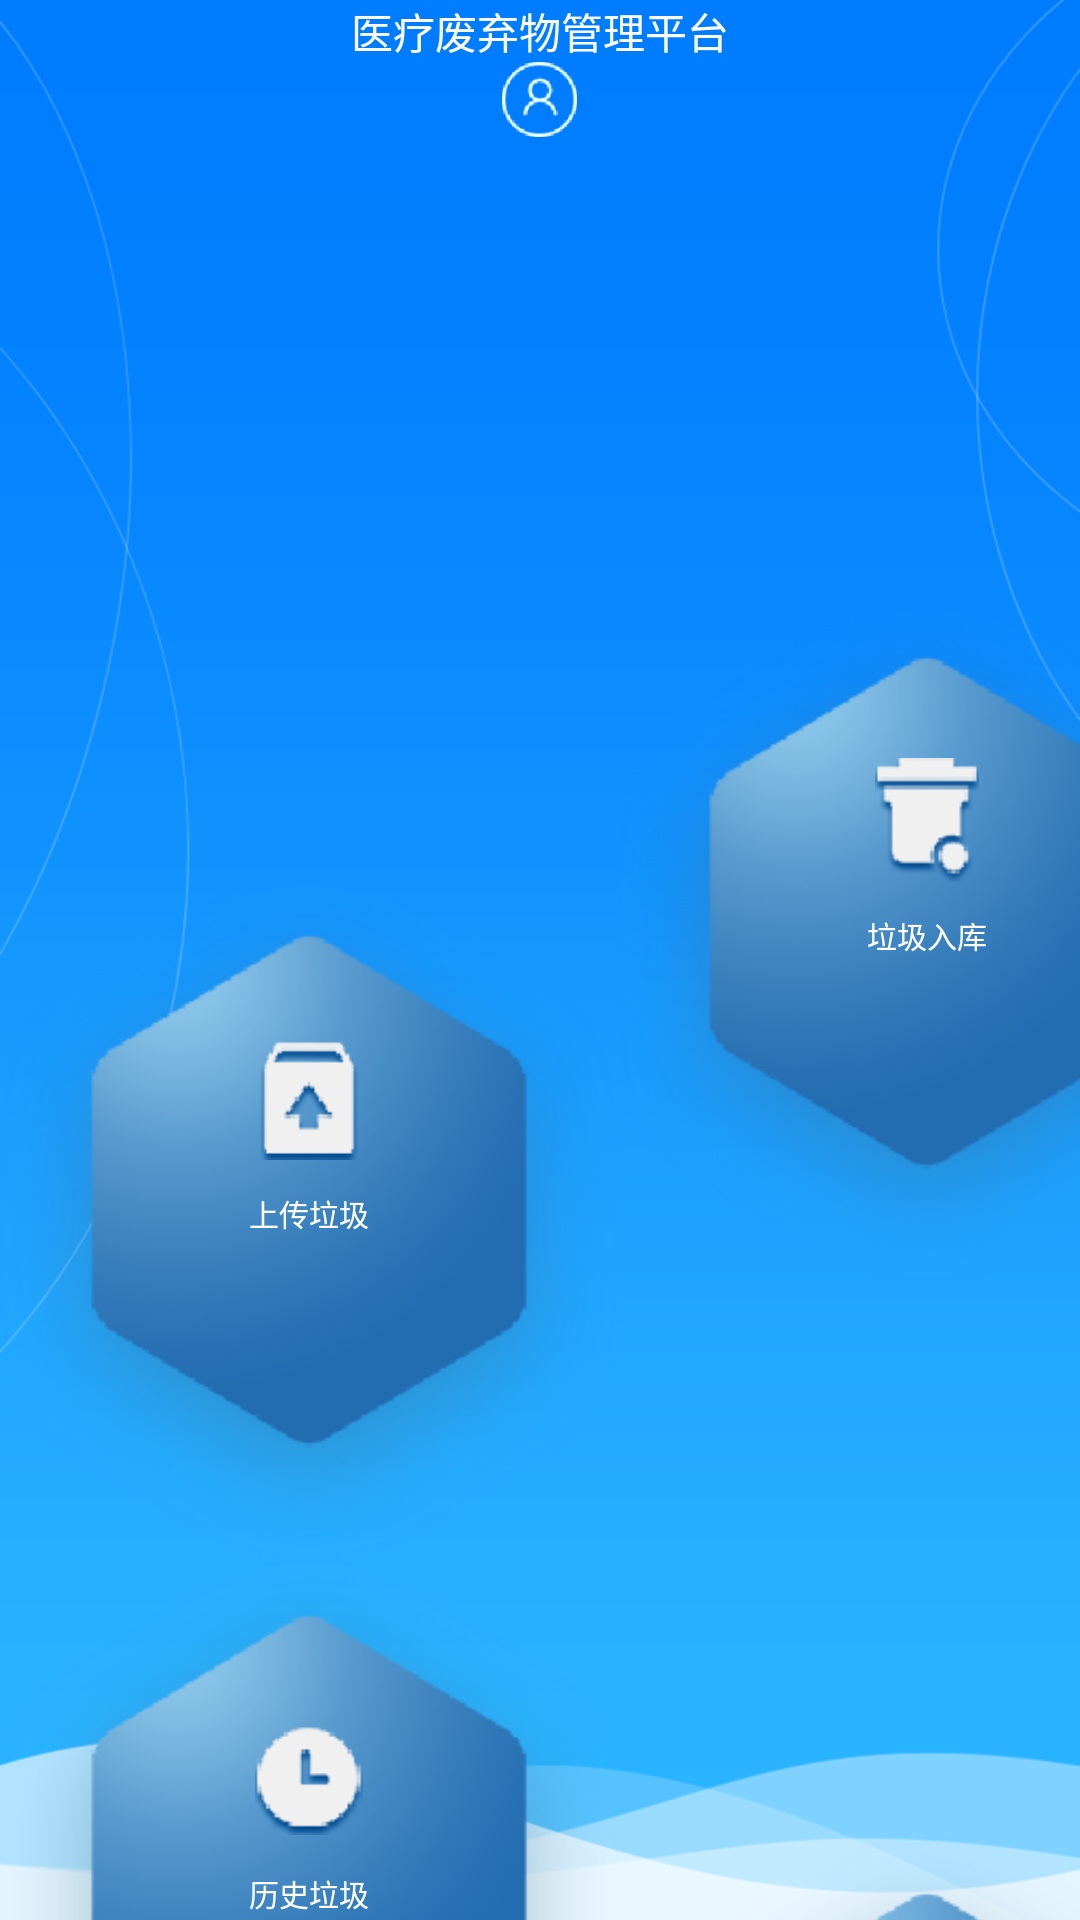

Named icons in this screenshot (1080 × 1920) and their bounding boxes, (x1, y1, x2, y2):
history: (255, 1716, 361, 1833)
user: (502, 62, 577, 137)
